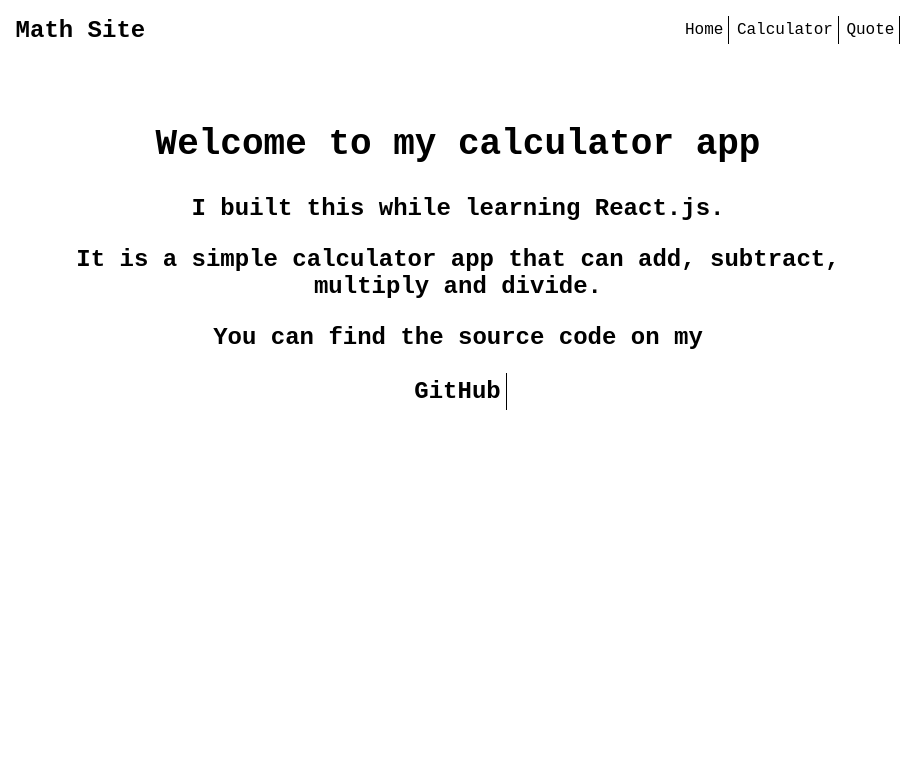
Test: Navigation › navigation calculator
This screenshot has width=917, height=758.
Click the link "Calculator": (785,30) 732,16 -> 839,44
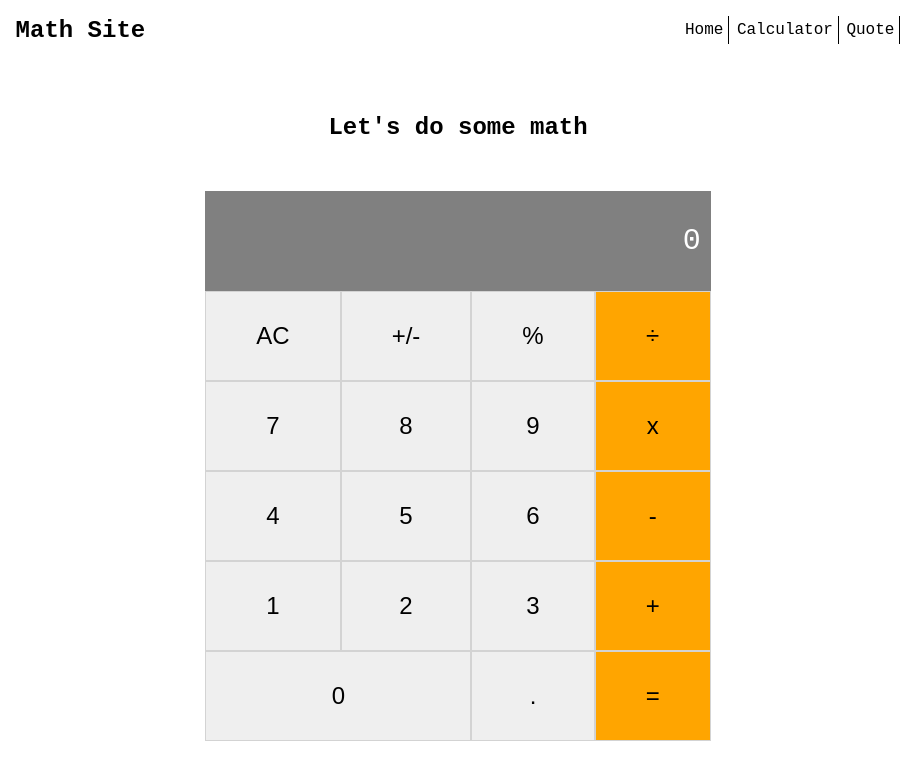
Now the heading "Let's do some math" is shown, box 328,114 -> 588,141
